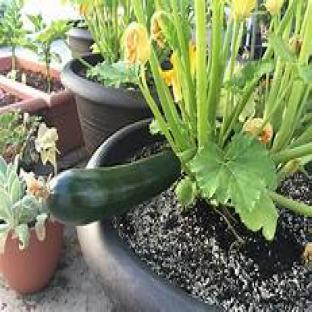Zucchini: (48, 151, 180, 224)
